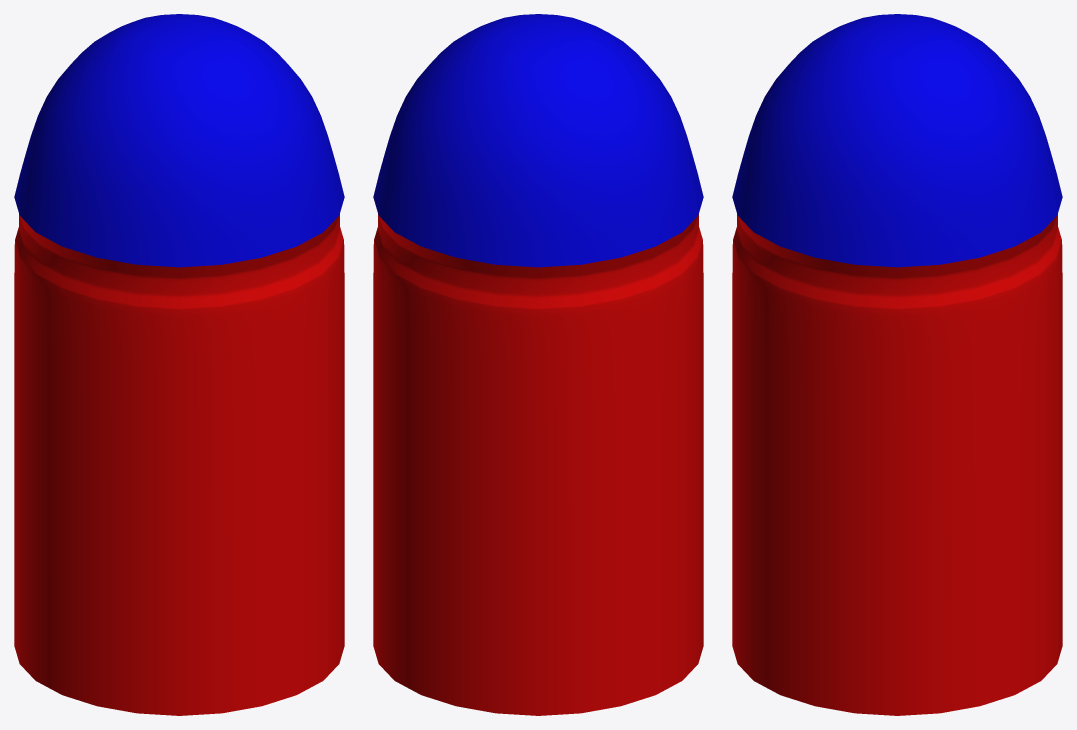
Rendered from Mülleimer_3_high.fbx.
The picture shows the model from 3 angles, left to right: view 1: azimuth 30°, elevation 25°; view 2: azimuth 150°, elevation 25°; view 3: azimuth 270°, elevation 25°; orthographic projection.
Visible parts, largest first — view 1: Mülleimer_3_high; view 2: Mülleimer_3_high; view 3: Mülleimer_3_high.
Boxes of the visible parts, x1,y1,x2,y2 form: Mülleimer_3_high: (14, 14, 344, 715); Mülleimer_3_high: (373, 14, 703, 715); Mülleimer_3_high: (732, 14, 1062, 715).
Bounding box in the file's own units: 0.5138 × 1.05 × 0.5108.
